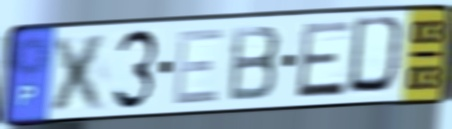3: (106, 27, 163, 113)
B: (225, 23, 284, 105)
D: (344, 14, 411, 99)
E: (293, 18, 354, 101), (170, 25, 227, 108)
X: (46, 30, 113, 114)
